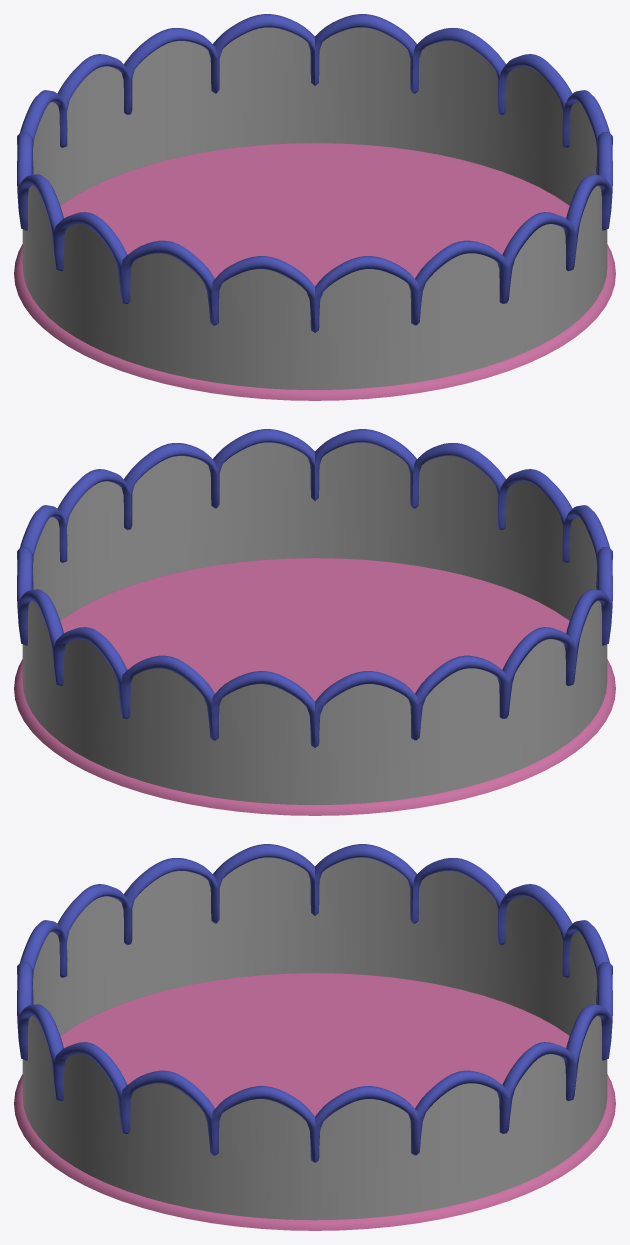
File: SM_DogPen.fbx
The picture shows the model from 3 angles, top to bottom: view 1: azimuth 30°, elevation 25°; view 2: azimuth 150°, elevation 25°; view 3: azimuth 270°, elevation 25°; orthographic projection.
Parts seen in each view (by area): view 1: SM_Bars, SM_Floor, polySurface189, polySurface190, polySurface191, polySurface206, polySurface198, polySurface199, polySurface192, polySurface197, polySurface200, polySurface205 (+8 smaller); view 2: SM_Bars, SM_Floor, polySurface201, polySurface202, polySurface200, polySurface203, polySurface192, polySurface193, polySurface191, polySurface194, polySurface199, polySurface204 (+8 smaller); view 3: SM_Bars, SM_Floor, polySurface195, polySurface196, polySurface194, polySurface197, polySurface204, polySurface205, polySurface193, polySurface198, polySurface203, polySurface206 (+8 smaller).
Part boxes in pixels (bbox=[...]): SM_Bars: bbox=[22, 27, 607, 389]; SM_Floor: bbox=[14, 143, 615, 400]; polySurface189: bbox=[211, 256, 314, 332]; polySurface190: bbox=[315, 256, 418, 332]; polySurface191: bbox=[415, 240, 508, 324]; polySurface206: bbox=[121, 240, 214, 324]; polySurface198: bbox=[315, 14, 416, 92]; polySurface199: bbox=[213, 14, 314, 92]; polySurface192: bbox=[502, 212, 576, 302]; polySurface197: bbox=[412, 28, 505, 113]; polySurface200: bbox=[124, 28, 217, 113]; polySurface205: bbox=[53, 212, 127, 302]; SM_Bars: bbox=[22, 442, 607, 804]; SM_Floor: bbox=[14, 558, 615, 815]; polySurface201: bbox=[211, 671, 314, 747]; polySurface202: bbox=[315, 671, 418, 747]; polySurface200: bbox=[121, 655, 214, 739]; polySurface203: bbox=[415, 655, 508, 739]; polySurface192: bbox=[315, 429, 416, 507]; polySurface193: bbox=[213, 429, 314, 507]; polySurface191: bbox=[412, 443, 505, 528]; polySurface194: bbox=[124, 443, 217, 528]; polySurface199: bbox=[53, 627, 127, 717]; polySurface204: bbox=[502, 627, 576, 717]; SM_Bars: bbox=[22, 857, 607, 1220]; SM_Floor: bbox=[14, 973, 615, 1230]; polySurface195: bbox=[211, 1086, 314, 1162]; polySurface196: bbox=[315, 1086, 418, 1162]; polySurface194: bbox=[121, 1070, 214, 1154]; polySurface197: bbox=[415, 1070, 508, 1154]; polySurface204: bbox=[315, 844, 416, 922]; polySurface205: bbox=[213, 844, 314, 922]; polySurface193: bbox=[53, 1042, 127, 1132]; polySurface198: bbox=[502, 1042, 576, 1132]; polySurface203: bbox=[412, 858, 505, 943]; polySurface206: bbox=[124, 858, 217, 943].
Size of the model in its own units: 393 by 98.72 by 392.
2 materials, 1 textured.
